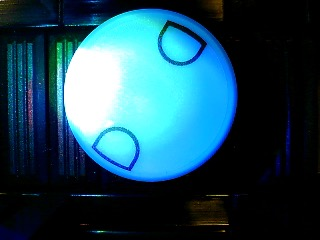MIPO2: (62, 8, 238, 182)
